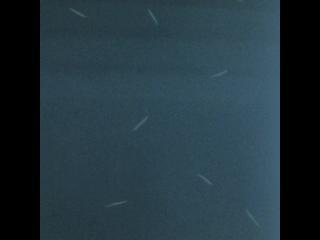scratch: (237, 205, 262, 231), (65, 2, 91, 25), (193, 166, 218, 188), (96, 195, 132, 210), (128, 109, 150, 133), (145, 6, 162, 31), (206, 66, 228, 79)
